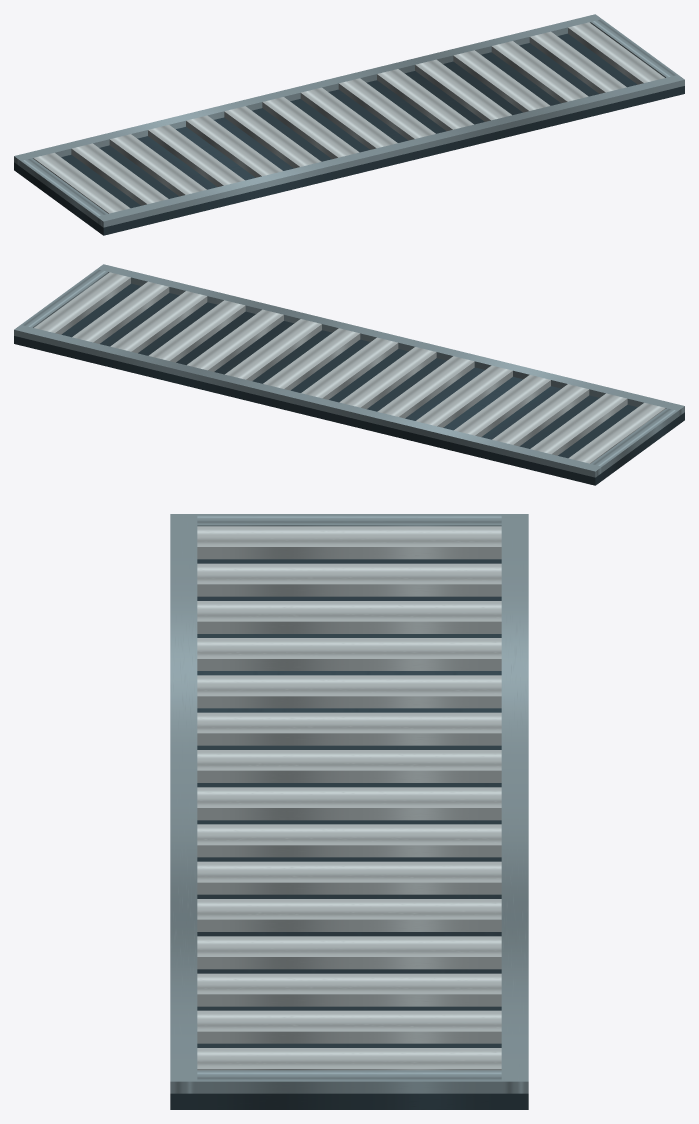
The model's file is pool_drain.glb.
3 renders of one model, top to bottom at view 1: azimuth 30°, elevation 25°; view 2: azimuth 150°, elevation 25°; view 3: azimuth 270°, elevation 25°, orthographic. The views are drawn at different scales.
Parts seen in each view (by area): view 1: pool_pool_drain; view 2: pool_pool_drain; view 3: pool_pool_drain.
Part boxes in pixels (bbox=[...]): pool_pool_drain: bbox=[14, 14, 684, 235]; pool_pool_drain: bbox=[14, 264, 684, 485]; pool_pool_drain: bbox=[170, 514, 528, 1109].
Bounding box in the file's own units: 0.6 × 0.014 × 0.16.
1 material, 1 textured.
